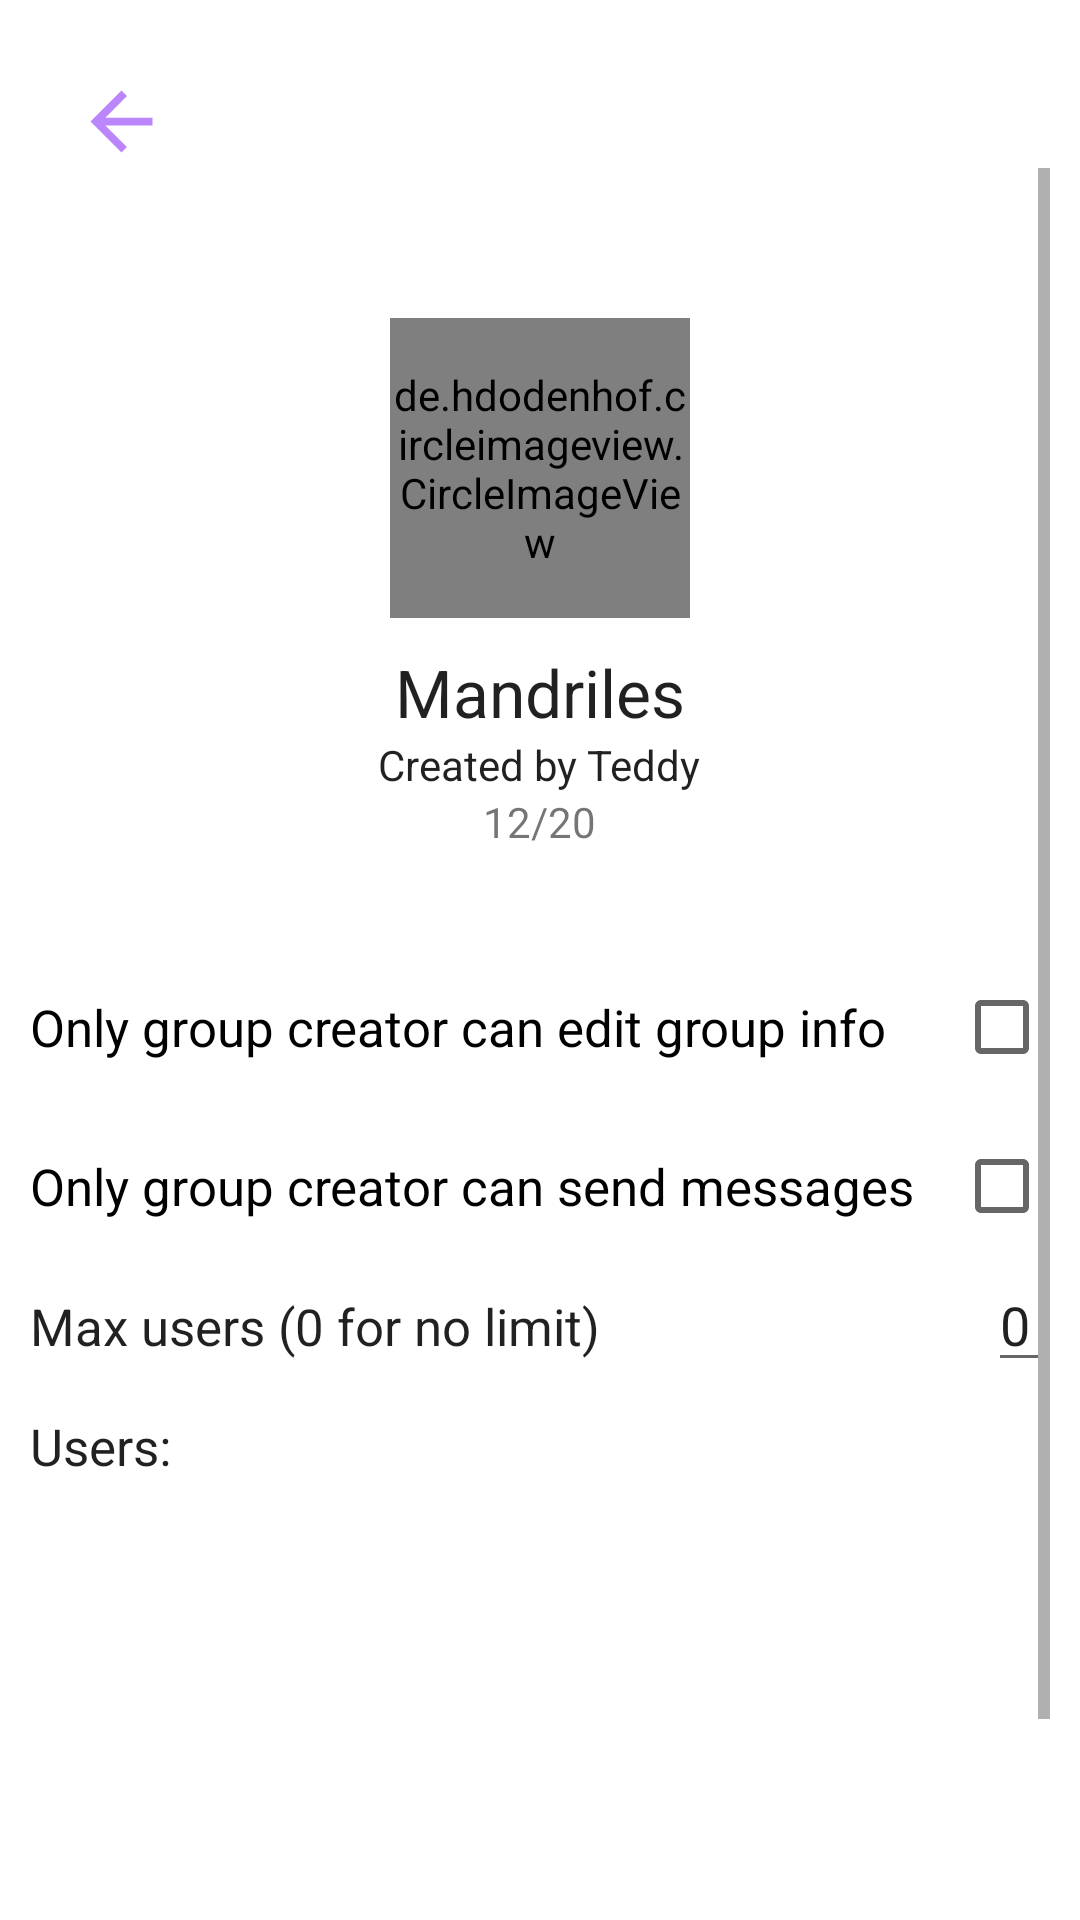

Icons on this 1080px x 1920px Android screen, each with the point to tap as point (x, y):
back: point (121, 121)
